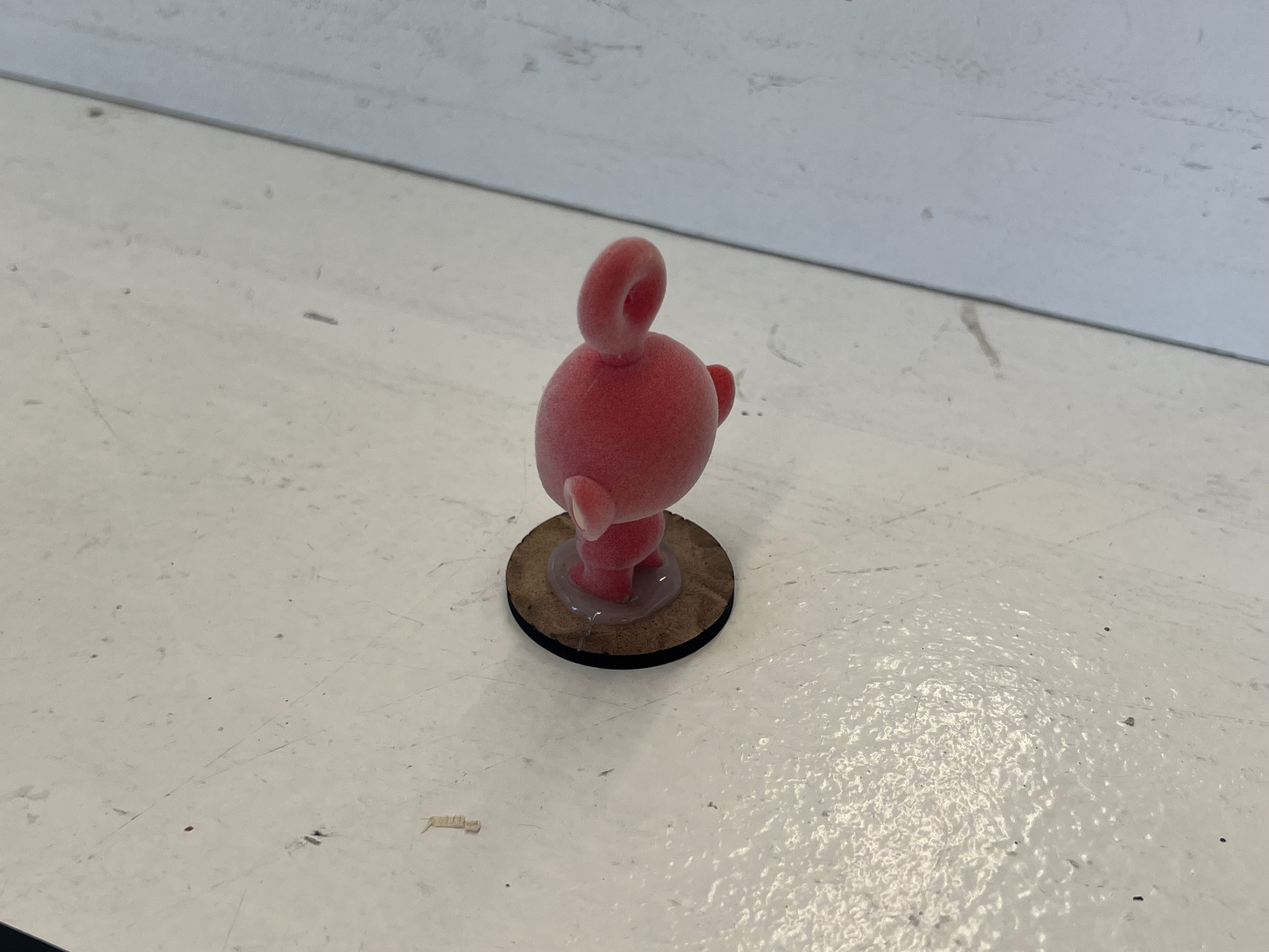teletubby: (535, 238, 734, 602)
